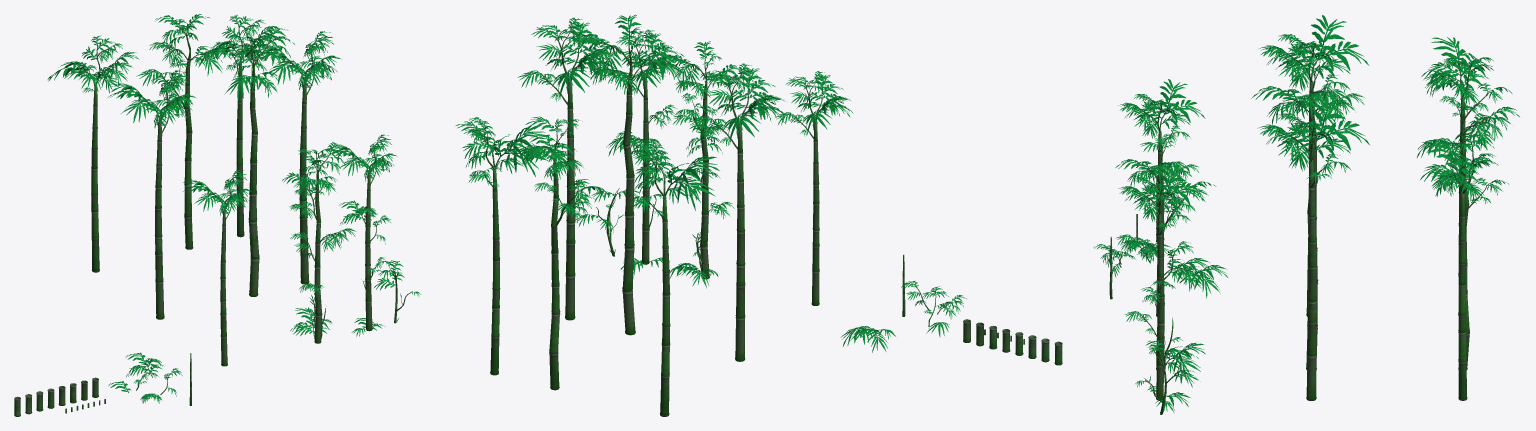
The picture shows the model from 3 angles, left to right: view 1: azimuth 30°, elevation 25°; view 2: azimuth 150°, elevation 25°; view 3: azimuth 270°, elevation 25°; orthographic projection. The views are drawn at different scales.
Parts seen in each view (by area): view 1: bambooBlock.016, bambooBlock.010, bambooBlock.013, bambooBlock.011, bambooBlock.009, bambooBlock.014, bambooBlock.015, bambooBlock.012, bambooBlock.008, bambooBranch.008, bambooBranch.020; view 2: bambooBlock.010, bambooBlock.011, bambooBlock.009, bambooBlock.016, bambooBlock.014, bambooBlock.013, bambooBlock.012, bambooBlock.015, bambooBlock.008, bambooBranch.008, bambooBranch.020; view 3: bambooBlock.009, bambooBlock.015, bambooBlock.012, bambooBlock.016, bambooBlock.011, bambooBlock.010, bambooBlock.013, bambooBlock.014, bambooBlock.008, bambooBranch.008, bambooBranch.020.
Boxes of the visible parts, left/top/right/bottom form: bambooBlock.016: left=282, top=142, right=356, bottom=343; bambooBlock.010: left=224, top=26, right=294, bottom=296; bambooBlock.013: left=136, top=14, right=231, bottom=249; bambooBlock.011: left=107, top=70, right=195, bottom=319; bambooBlock.009: left=250, top=31, right=341, bottom=284; bambooBlock.014: left=47, top=35, right=139, bottom=272; bambooBlock.015: left=327, top=134, right=397, bottom=336; bambooBlock.012: left=198, top=15, right=279, bottom=237; bambooBlock.008: left=183, top=170, right=252, bottom=366; bambooBranch.008: left=374, top=260, right=420, bottom=323; bambooBranch.020: left=125, top=352, right=163, bottom=377; bambooBlock.010: left=566, top=14, right=685, bottom=335; bambooBlock.011: left=688, top=63, right=788, bottom=361; bambooBlock.009: left=517, top=17, right=615, bottom=320; bambooBlock.016: left=658, top=41, right=744, bottom=288; bambooBlock.014: left=630, top=139, right=719, bottom=416; bambooBlock.013: left=518, top=116, right=610, bottom=390; bambooBlock.012: left=455, top=117, right=549, bottom=375; bambooBlock.015: left=606, top=29, right=681, bottom=274; bambooBlock.008: left=775, top=71, right=853, bottom=305; bambooBranch.008: left=576, top=188, right=639, bottom=256; bambooBranch.020: left=841, top=326, right=895, bottom=352; bambooBlock.009: left=1257, top=96, right=1370, bottom=400; bambooBlock.015: left=1118, top=162, right=1211, bottom=413; bambooBlock.012: left=1420, top=139, right=1509, bottom=400; bambooBlock.016: left=1115, top=134, right=1216, bottom=380; bambooBlock.011: left=1259, top=15, right=1369, bottom=316; bambooBlock.010: left=1251, top=52, right=1364, bottom=369; bambooBlock.013: left=1417, top=95, right=1519, bottom=369; bambooBlock.014: left=1421, top=37, right=1512, bottom=315; bambooBlock.008: left=1119, top=79, right=1205, bottom=316; bambooBranch.008: left=1135, top=340, right=1198, bottom=414; bambooBranch.020: left=1179, top=265, right=1227, bottom=298.
Bounding box in the file's own units: 7267 × 4704 × 5686.
